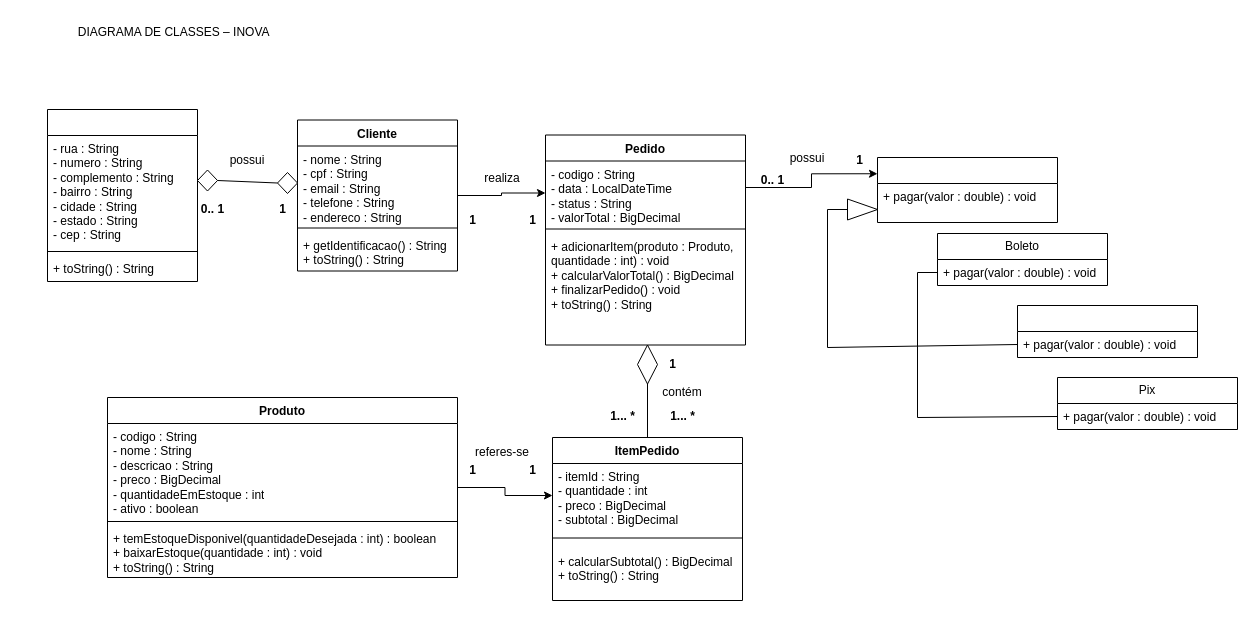
Image size: 1255x620. Some labels were removed from this diagram. Each missing label, with the box of its shape:
CartaoCredito: (1016, 304, 1198, 358)
Endereco: (46, 108, 198, 282)
FormaPagamento: (876, 156, 1058, 222)
